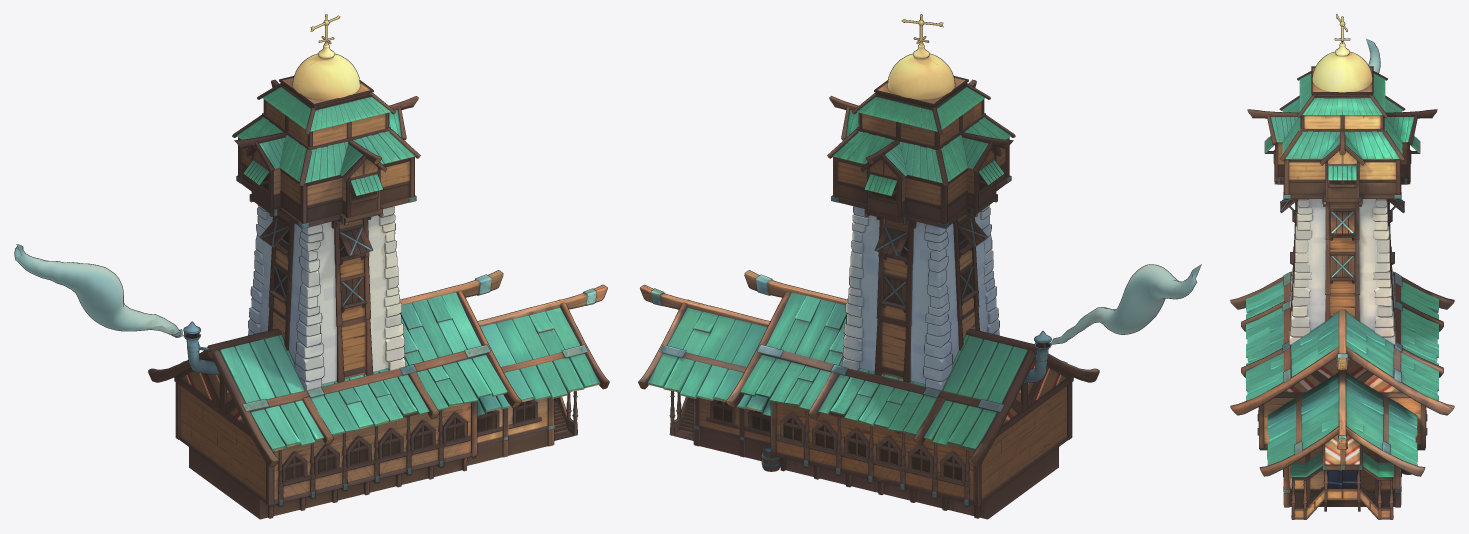
File: House.glb
The picture shows the model from 3 angles, left to right: view 1: azimuth 30°, elevation 25°; view 2: azimuth 150°, elevation 25°; view 3: azimuth 270°, elevation 25°; orthographic projection. The views are drawn at different scales.
Visible parts, largest first — view 1: Object_3, Object_2; view 2: Object_3, Object_2; view 3: Object_3, Object_2.
Boxes of the visible parts, x1=… form: Object_3: x1=14, y1=14, x2=609, y2=519; Object_2: x1=14, y1=14, x2=609, y2=517; Object_3: x1=638, y1=14, x2=1201, y2=519; Object_2: x1=638, y1=14, x2=1201, y2=517; Object_3: x1=1230, y1=14, x2=1454, y2=519; Object_2: x1=1230, y1=14, x2=1454, y2=518.
Size of the model in its own units: 42.3 by 32.06 by 16.03.
Materials: 2 (1 with a texture image).
